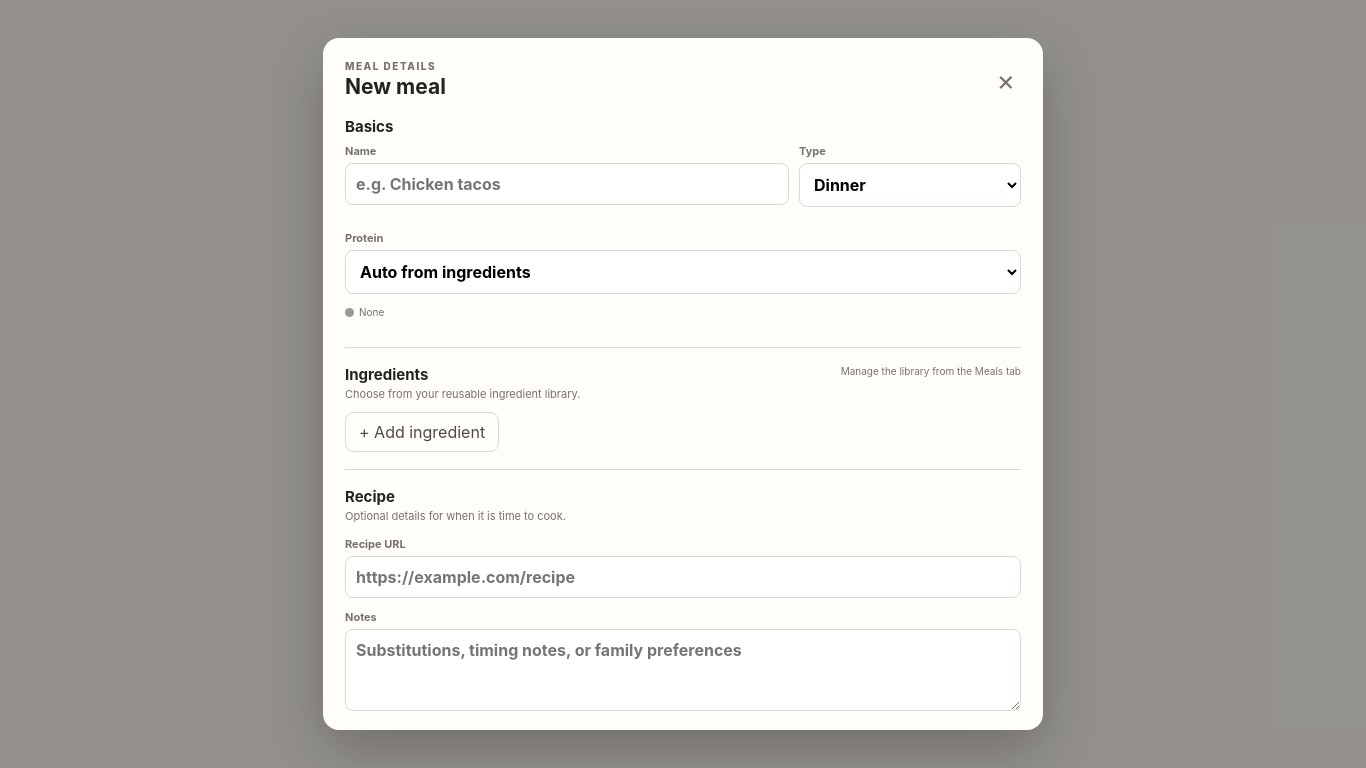
Scenario: MealForm ingredient picker › supports keyboard selection from filtered ingredient results
Click the button "+ Add ingredient" at (422, 432), box [345, 412, 499, 452]
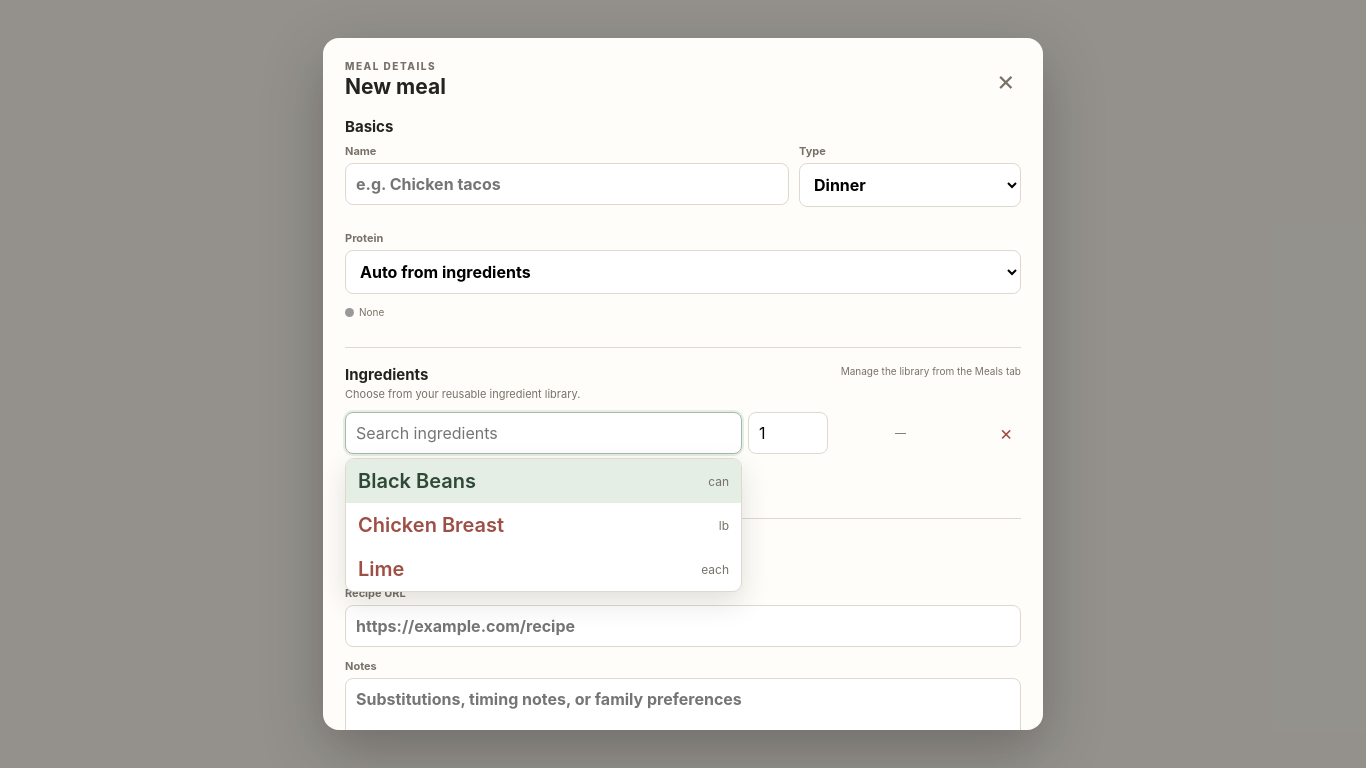
Type "lime" into the dropdown named "Ingredient 1" at (544, 433), box [345, 412, 742, 454]
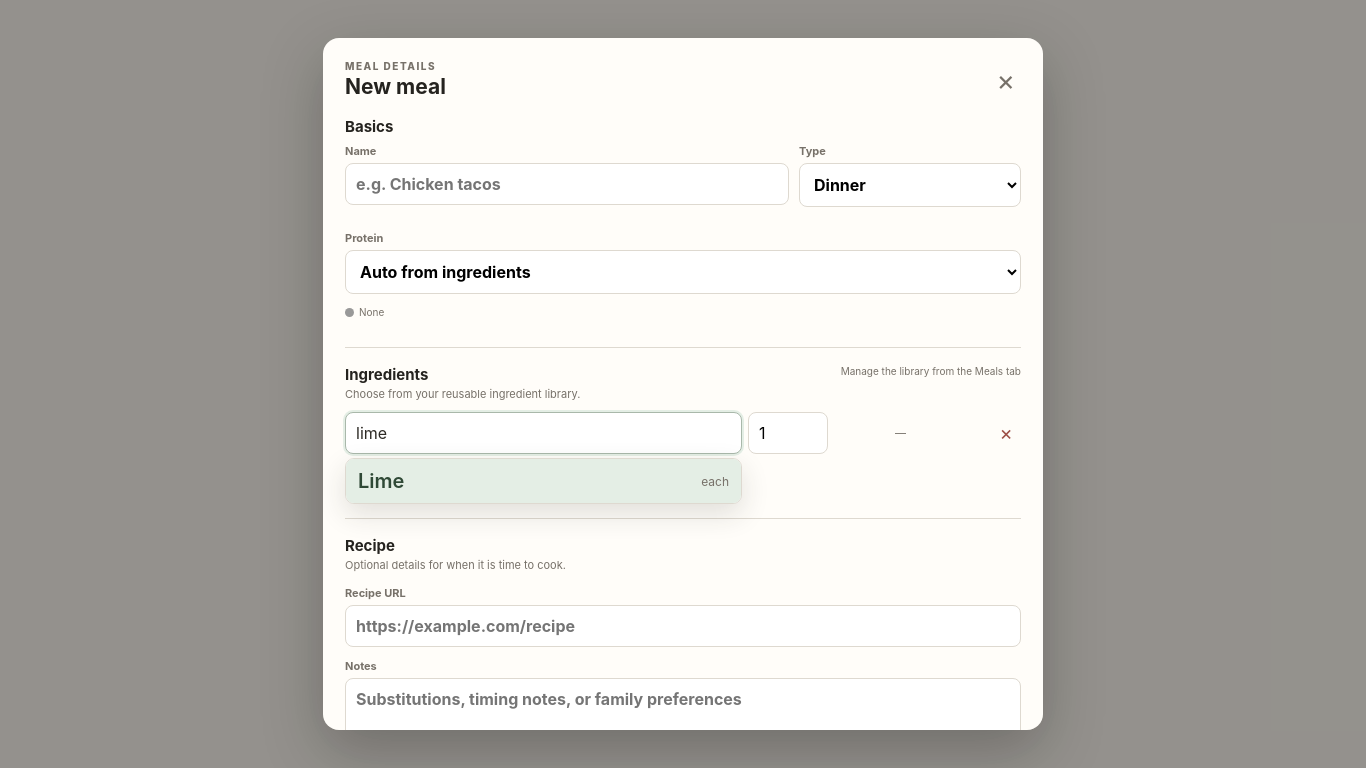
Press Enter in the dropdown named "Ingredient 1", box [345, 412, 742, 454]
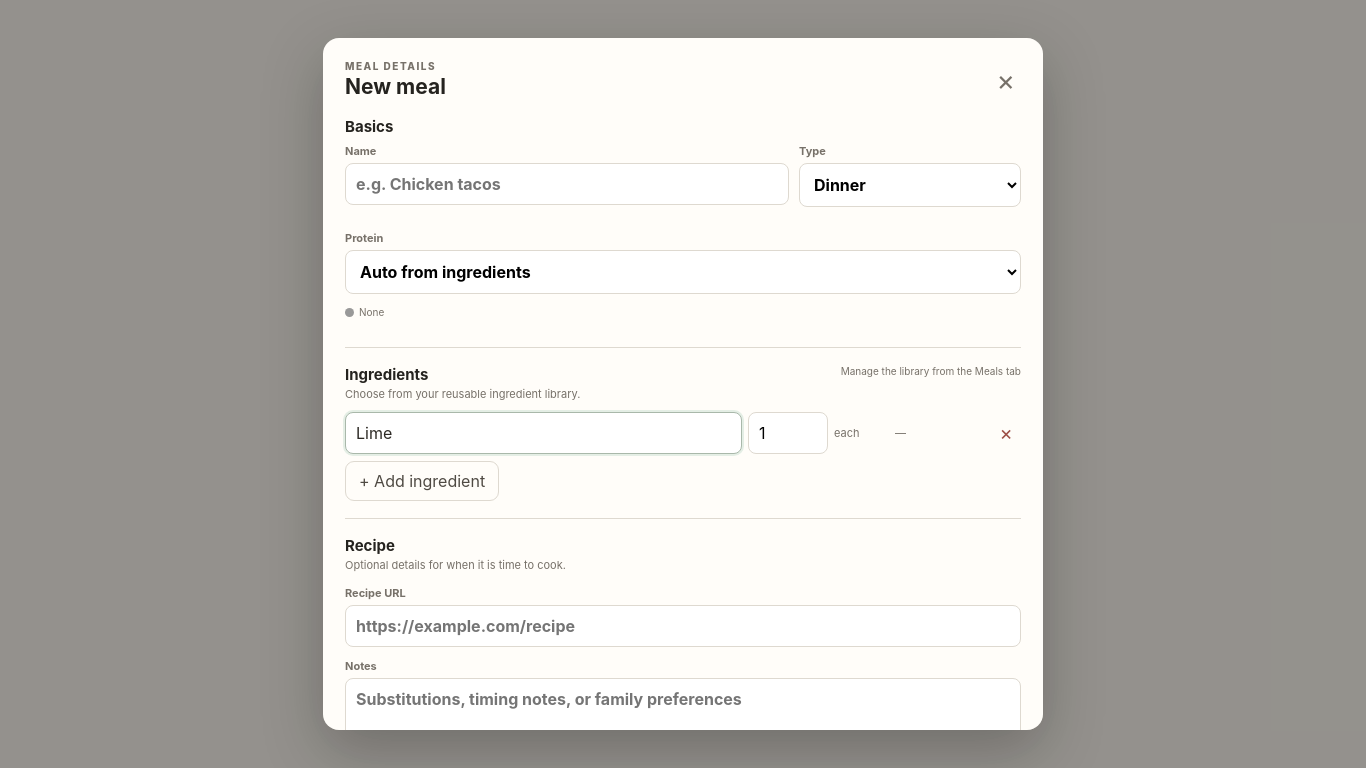
Result: the dropdown named "Ingredient 1" is collapsed at [345, 412, 742, 454]
